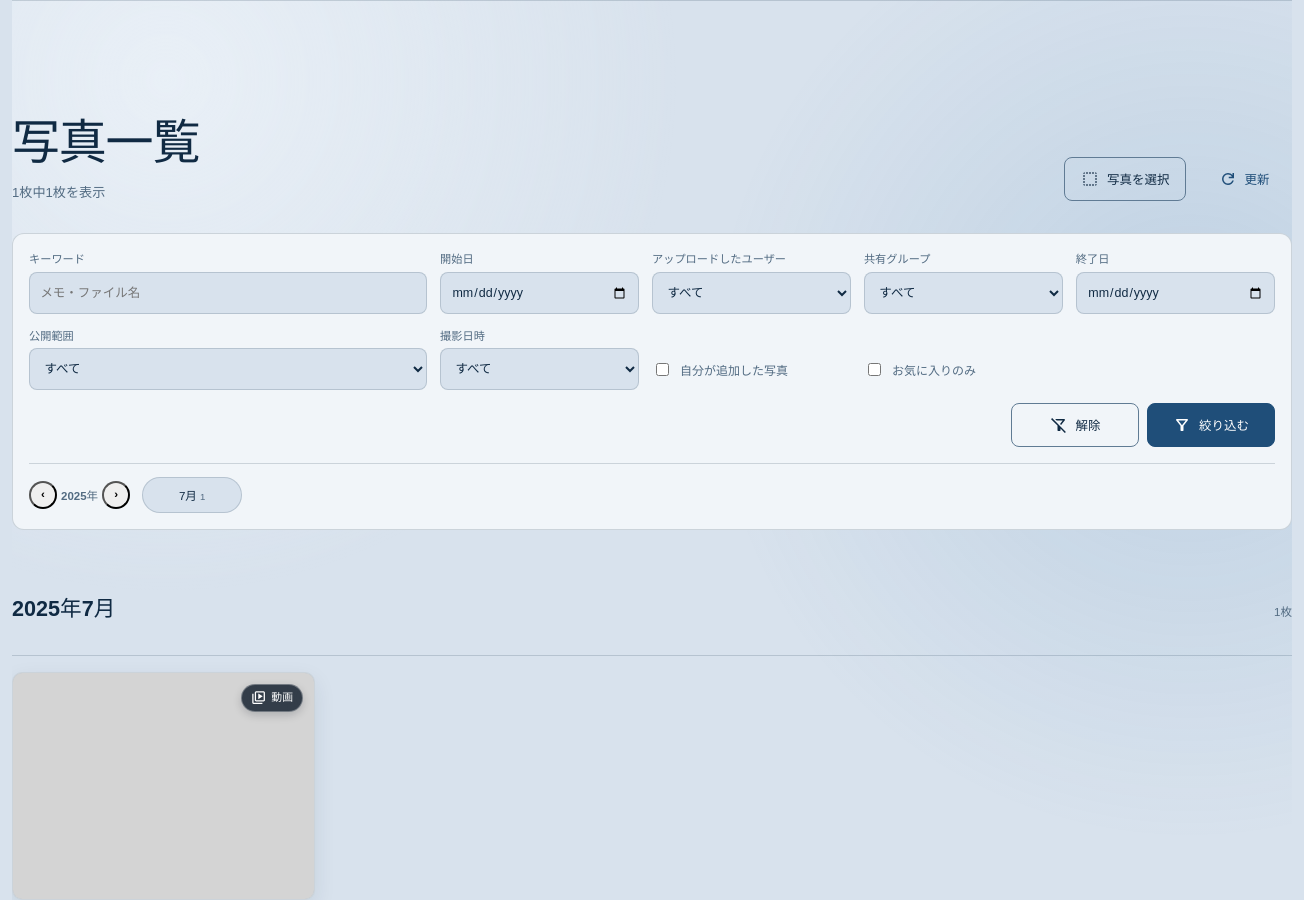
it: PhotoLibrary › uses a separate shared selection badge position
What coordinates should you click on to do the following:
click the button "写真を選択"
I would click on:
 (1125, 179)
Its box is [1064,157,1186,201].
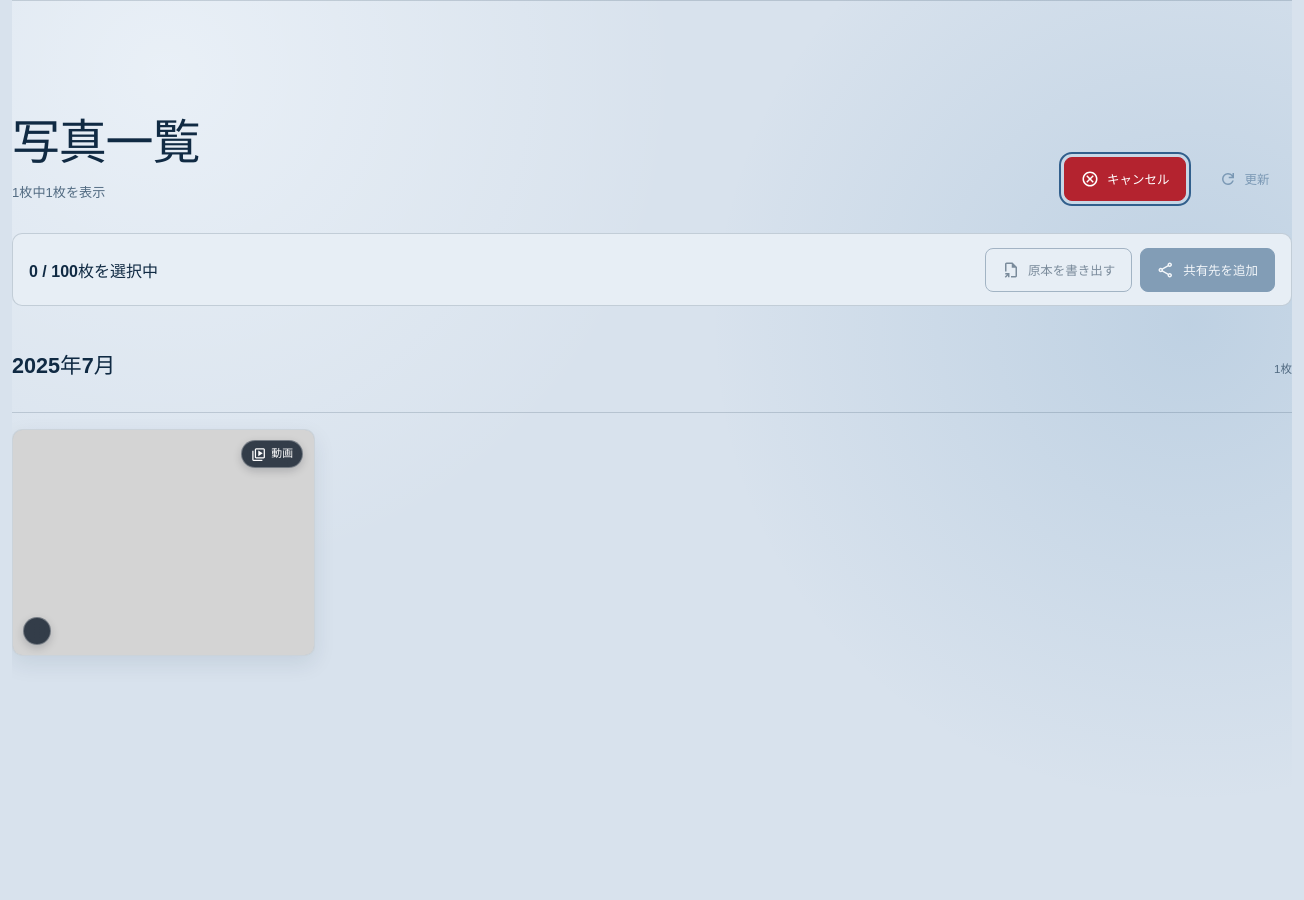
What coordinates should you click on to do the following:
click the button with aria-label "summer.jpgを選択"
I would click on:
 (163, 543)
Its box is [12,429,315,656].
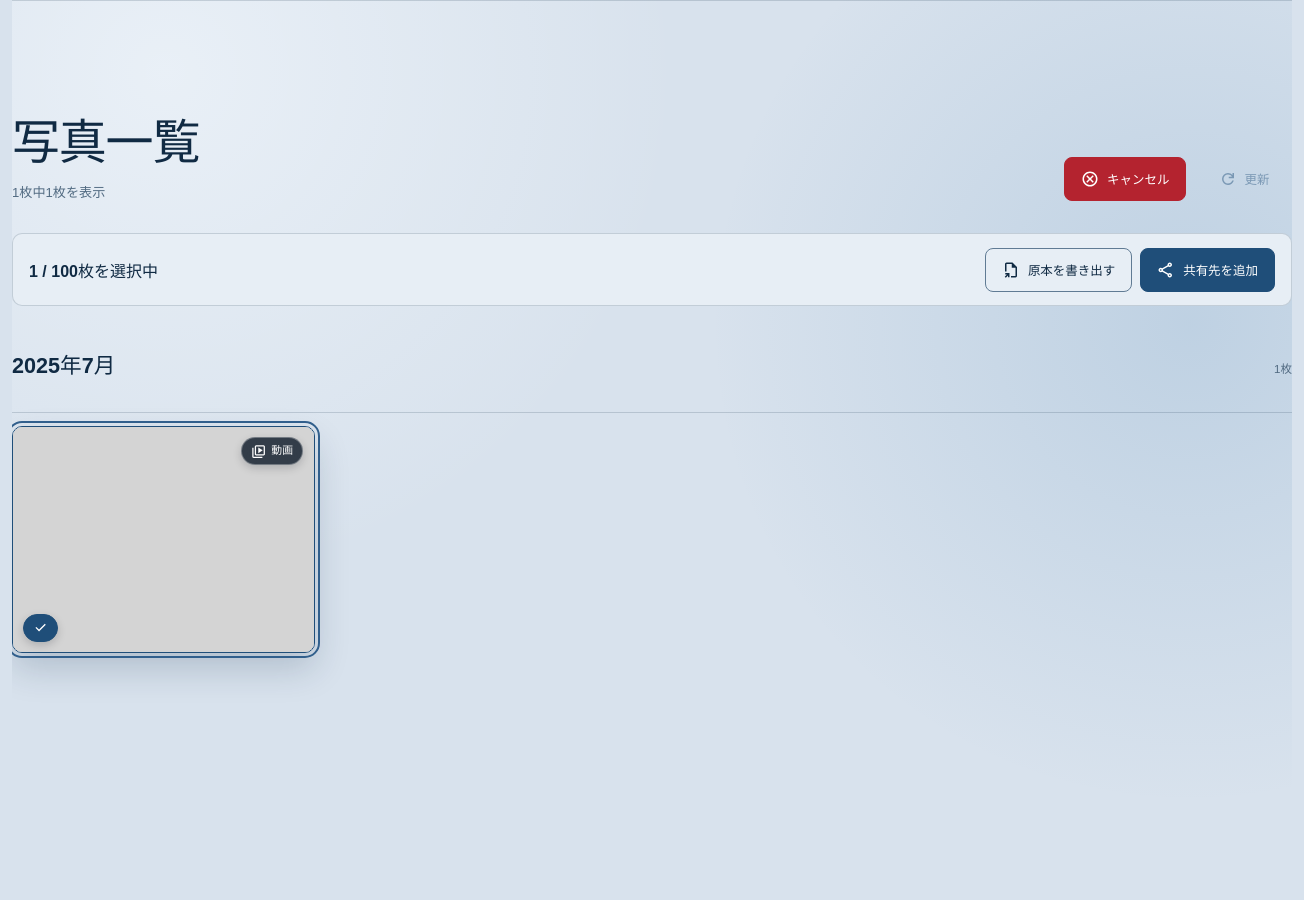
Now the 6th icon is shown, box [33,620,48,636]
